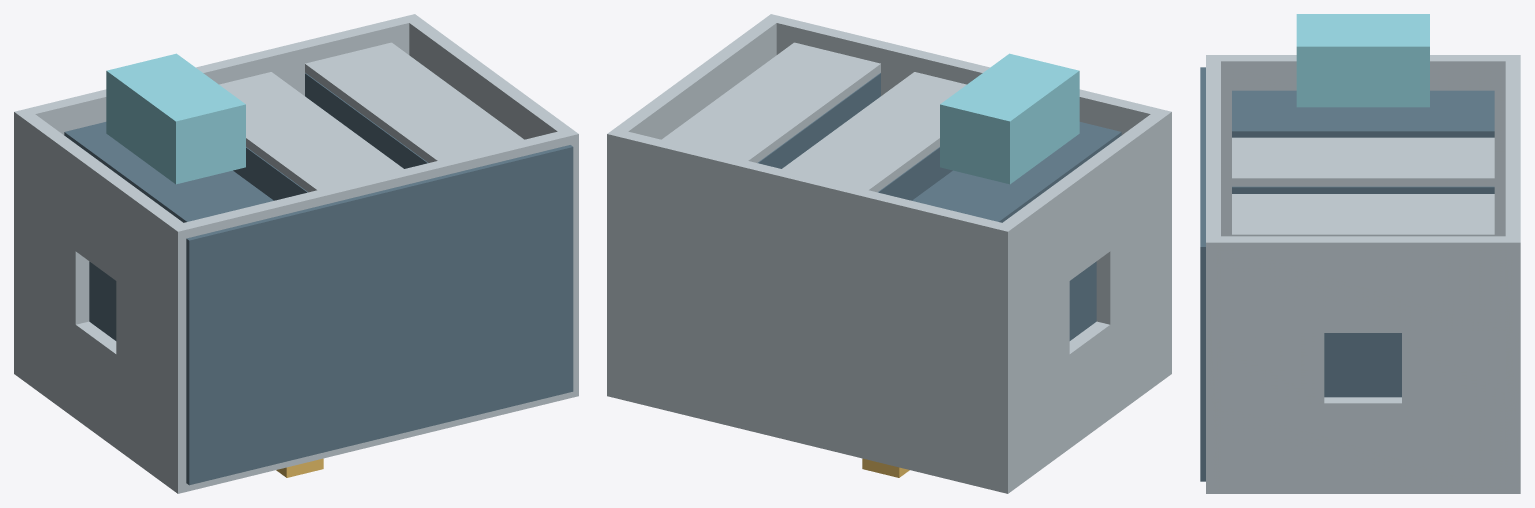
Rendered from PRISM-postfire-recovery.glb.
3 renders of one model, left to right at view 1: azimuth 30°, elevation 25°; view 2: azimuth 150°, elevation 25°; view 3: azimuth 270°, elevation 25°, orthographic. The views are drawn at different scales.
Parts seen in each view (by area): view 1: dark components, case components, pouch components; view 2: case components, pouch components, dark components; view 3: case components, dark components, pouch components.
Part boxes in pixels (left/top/right/bottom): dark components: left=64, top=73, right=573, bottom=485; case components: left=14, top=14, right=578, bottom=493; pouch components: left=106, top=53, right=245, bottom=184; case components: left=607, top=14, right=1171, bottom=493; pouch components: left=940, top=53, right=1079, bottom=184; dark components: left=757, top=73, right=1121, bottom=340; case components: left=1206, top=55, right=1520, bottom=493; dark components: left=1200, top=67, right=1494, bottom=481; pouch components: left=1296, top=14, right=1429, bottom=107.
Size of what is drawn, in the model's own units: 0.24 by 0.234 by 0.173.
